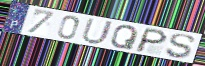0: (57, 15, 81, 40)
7: (28, 8, 56, 35)
P: (134, 27, 169, 54)
Q: (109, 24, 140, 50)
S: (165, 33, 196, 59)
U: (80, 17, 115, 46)
